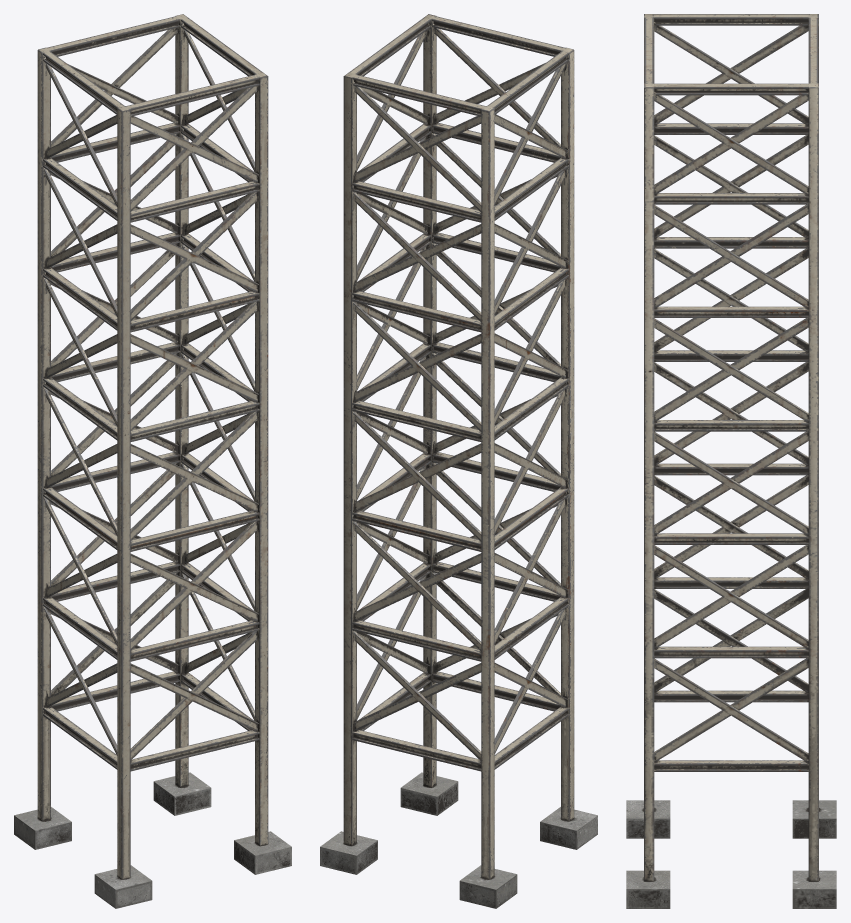
Rendered from sign_roof_frameA.fbx.
3 views of the same model, side by side, from view 1: azimuth 30°, elevation 25°; view 2: azimuth 150°, elevation 25°; view 3: azimuth 270°, elevation 25° (orthographic). The views are drawn at different scales.
Visible parts, largest first — view 1: sign_roof_frameA; view 2: sign_roof_frameA; view 3: sign_roof_frameA.
Part boxes in pixels (<box>): sign_roof_frameA: <box>14,14,291,908</box>; sign_roof_frameA: <box>320,14,597,908</box>; sign_roof_frameA: <box>626,14,836,908</box>.
Size of the model in its own units: 120 by 512 by 120.
Materials: 1 (1 with a texture image).
